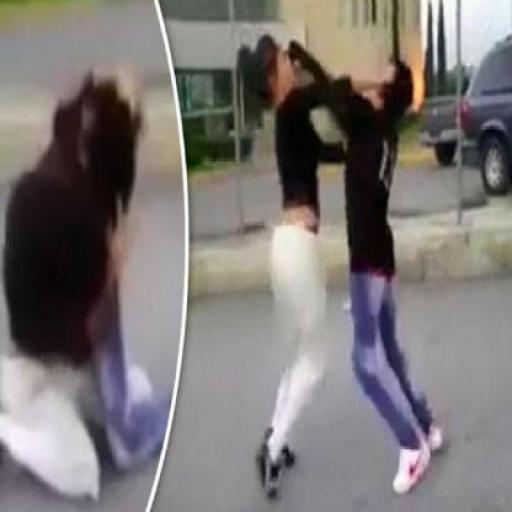Fighting: (240, 33, 444, 506), (0, 66, 161, 511)
